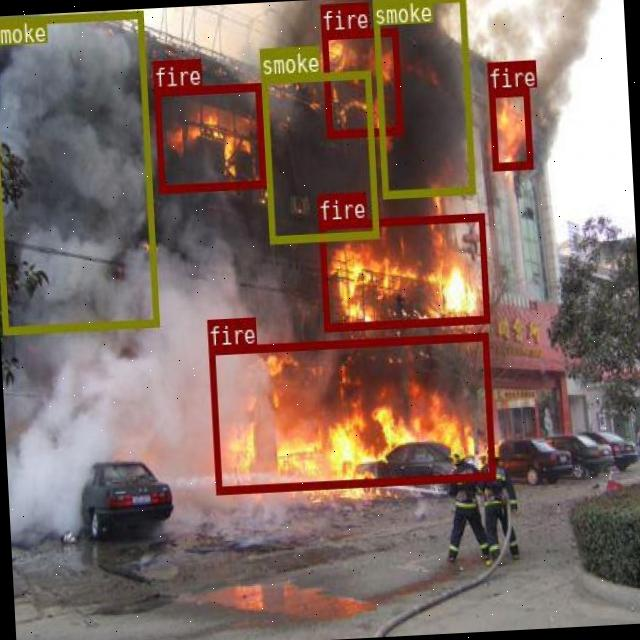fire: (208, 332, 494, 492), (319, 214, 488, 330), (154, 83, 265, 192), (321, 27, 401, 136), (488, 86, 531, 169)
smoke: (0, 11, 158, 333), (260, 70, 378, 244), (372, 0, 474, 197)
